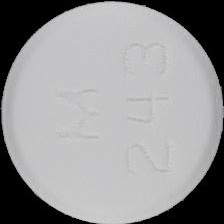0378-0243: (0, 0, 224, 224)
